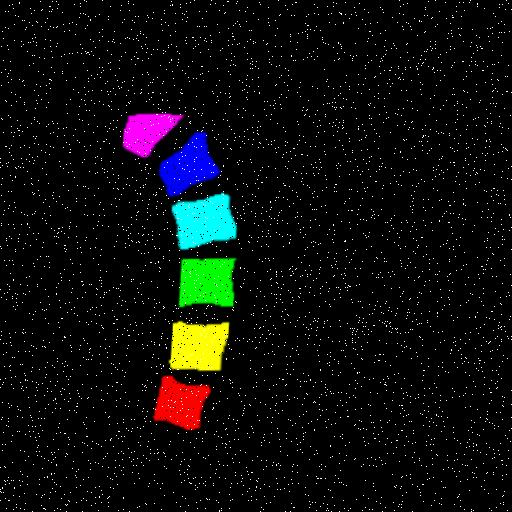L1: (161, 375, 216, 426)
L2: (176, 320, 234, 368)
L3: (184, 256, 239, 304)
L4: (175, 192, 240, 246)
L5: (162, 130, 222, 194)
S1: (124, 113, 184, 155)
